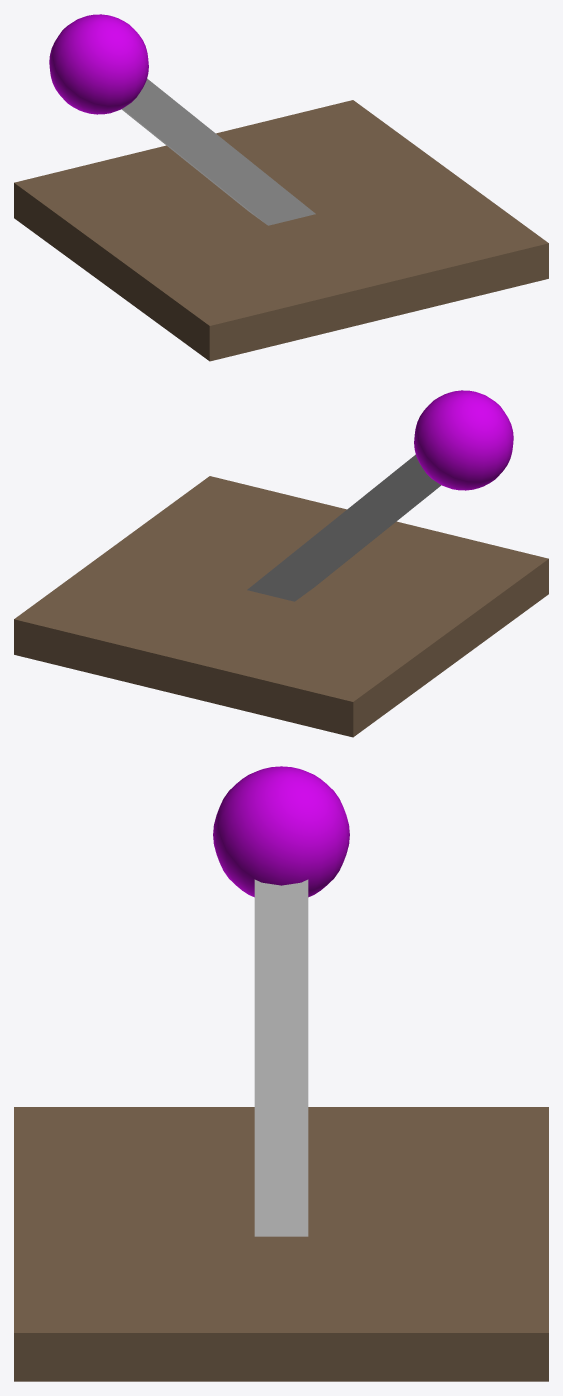
File: sm_LEVER.fbx
3 views of the same model, one above another, from view 1: azimuth 30°, elevation 25°; view 2: azimuth 150°, elevation 25°; view 3: azimuth 270°, elevation 25° (orthographic). The views are drawn at different scales.
Parts seen in each view (by area): view 1: sm_LEVER; view 2: sm_LEVER; view 3: sm_LEVER.
Part boxes in pixels (x1,y1,x2,y2): sm_LEVER: (14, 14, 548, 361); sm_LEVER: (14, 390, 548, 737); sm_LEVER: (14, 766, 548, 1381).
Bounding box in the file's own units: 117 × 77.17 × 100.
